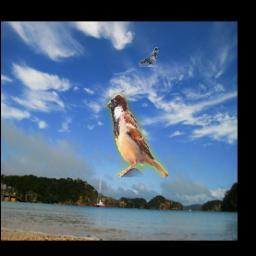Crow: (139, 48, 159, 68)
Sparrow: (105, 93, 168, 178)
